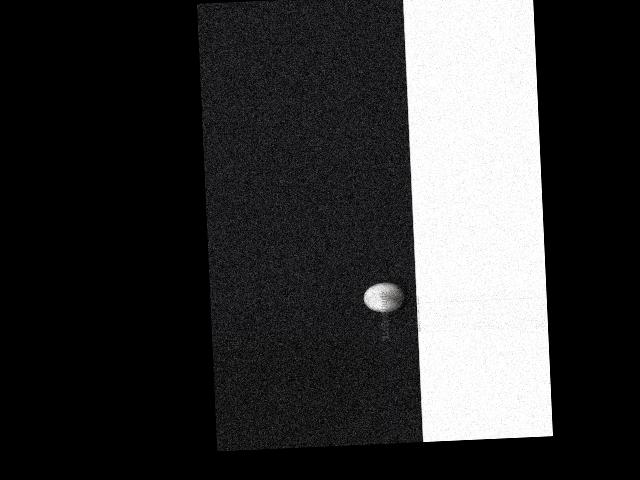egg: (362, 281, 405, 313)
